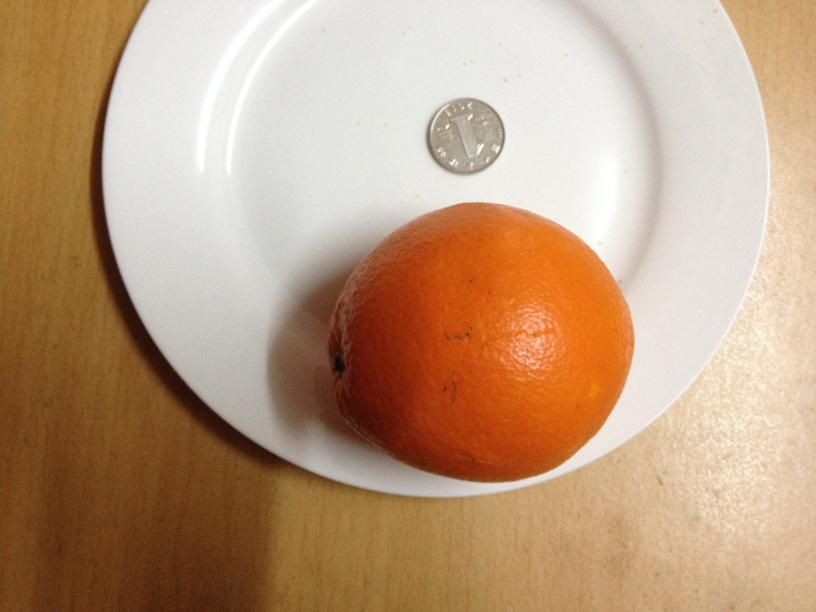coin: (427, 96, 505, 173)
orange: (330, 202, 631, 480)
